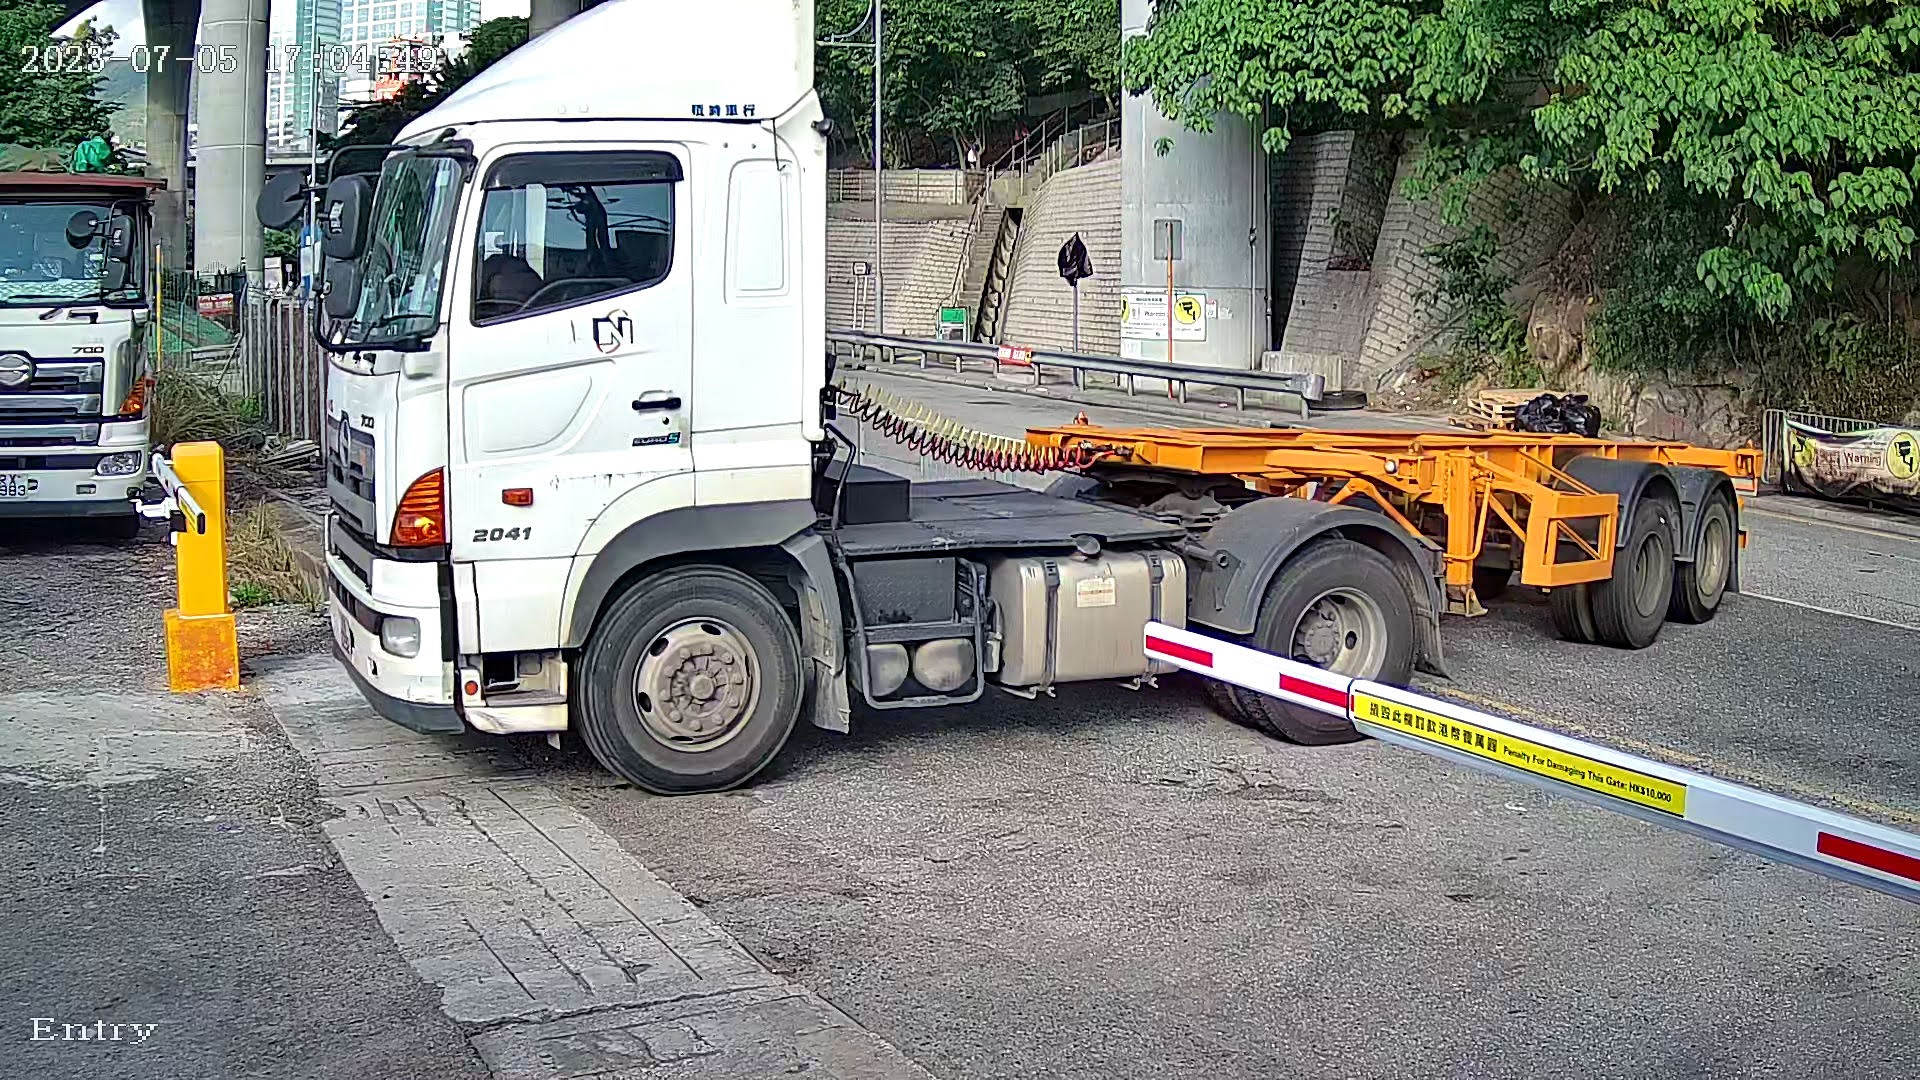tractor: (247, 1, 1807, 793)
